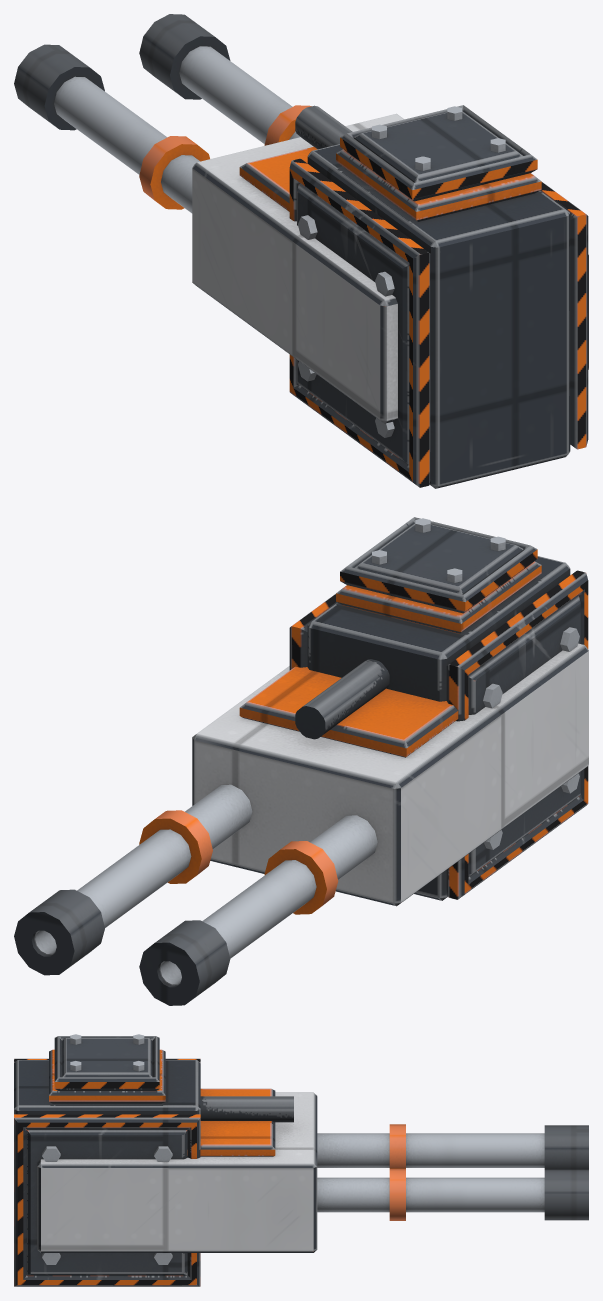
File: laser_doble_t2.fbx
3 renders of one model, top to bottom at view 1: azimuth 30°, elevation 25°; view 2: azimuth 150°, elevation 25°; view 3: azimuth 270°, elevation 25°, orthographic. The views are drawn at different scales.
Visible parts, largest first — view 1: laser_doble_t2; view 2: laser_doble_t2; view 3: laser_doble_t2.
Part boxes in pixels (<box>): laser_doble_t2: <box>14,14,588,488</box>; laser_doble_t2: <box>14,517,588,1005</box>; laser_doble_t2: <box>14,1034,588,1286</box>.
Size of the model in its own units: 1.5 by 2.01 by 4.93.
